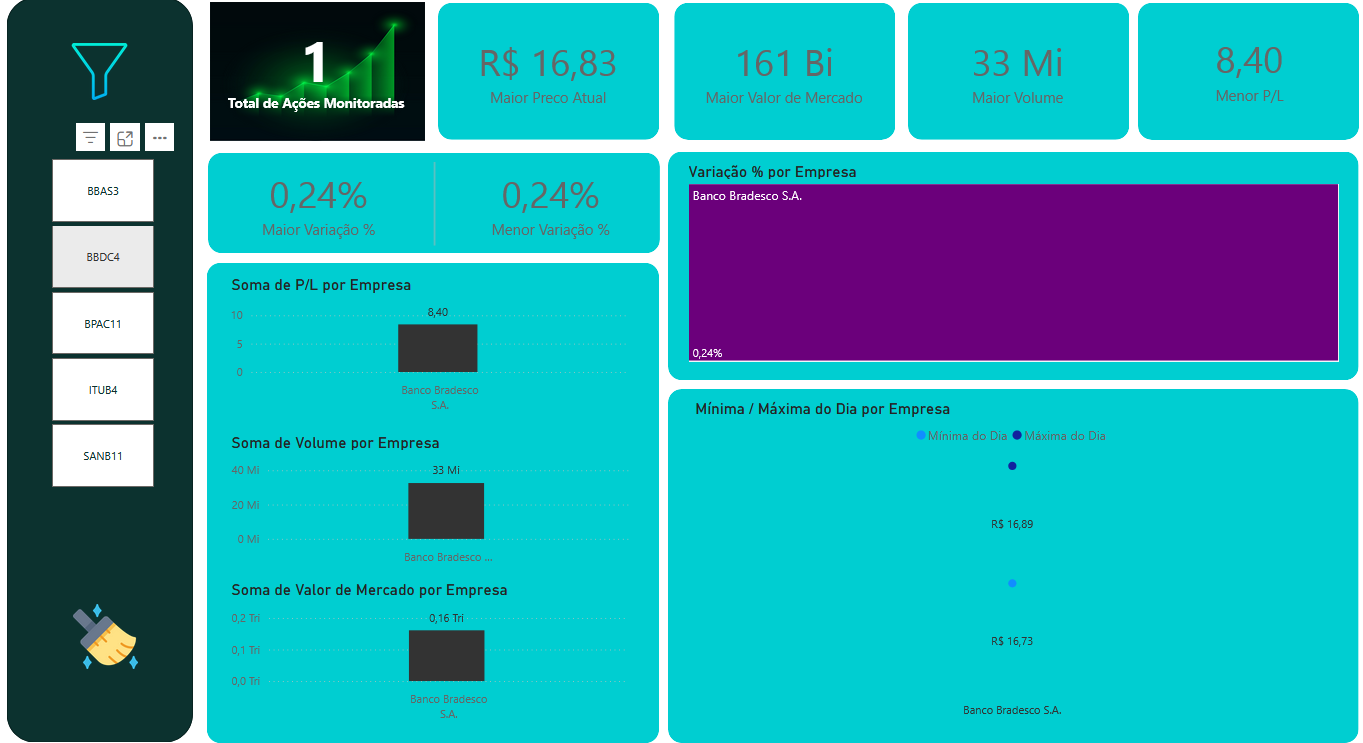

The page's visual inventory and layout, read from the dashboard file:
{"tool":"powerbi","page":{"name":"Ações","canvas":[1500,840],"ordinal":0},"visuals":[{"type":"shape","box":[998.6,20.1,240.1,148.8],"z":0},{"type":"shape","box":[744.2,20.3,240,148.8],"z":1000},{"type":"shape","box":[1248.4,20.3,240,148.8],"z":2000},{"type":"shape","box":[488.9,20.1,240.1,148.8],"z":3000},{"type":"shape","box":[238.6,182.7,490.5,109.2],"z":4000},{"type":"image","box":[236.3,15.4,243.2,161],"z":5000},{"type":"card","fields":{"Values":["Medidas.Maior Preco Atual"]},"box":[504.8,38.3,207.9,113.6],"z":6000},{"type":"card","fields":{"Values":["Medidas.Maior Volume"]},"box":[1020.7,38.3,195.9,113.6],"z":7000},{"type":"card","fields":{"Values":["Medidas.Maior Valor de Mercado"]},"box":[757.5,38.3,215.3,113.6],"z":8000},{"type":"card","fields":{"Values":["Medidas.Menor P/L"]},"box":[1265.9,38.3,207.9,109.2],"z":9000},{"type":"card","fields":{"Values":["Medidas.Maior Variação %"]},"box":[259.3,192,200.4,91.2],"z":10000},{"type":"card","fields":{"Values":["Medidas.Menor Variação %"]},"box":[515,192,191.4,91.2],"z":11000},{"type":"card","fields":{"Values":["Medidas.Total de Ações Monitoradas"]},"box":[250,37.7,214,106.2],"z":12000},{"type":"shape","box":[452.1,192,65.8,91.2],"z":13000},{"type":"shape","box":[236.8,302,491,521.6],"z":14000},{"type":"shape","box":[738,182.2,749.6,248.4],"z":15000},{"type":"shape","box":[738,439.4,749.6,384.3],"z":16000},{"type":"clusteredColumnChart","fields":{"Category":["dados_tratados.Empresa"],"Y":["Sum(dados_tratados.P/L)"]},"box":[258.8,316.6,441.3,156.3],"z":17000},{"type":"columnChart","fields":{"Category":["dados_tratados.Empresa"],"Y":["Sum(dados_tratados.Volume)"]},"box":[258.8,487.6,441.3,150.5],"z":18000},{"type":"columnChart","fields":{"Category":["dados_tratados.Empresa"],"Y":["Sum(dados_tratados.Valor de Mercado)"]},"box":[258.8,646.8,441.3,160.7],"z":19000},{"type":"treemap","title":"Variação % por Empresa","fields":{"Group":["dados_tratados.Empresa"],"Values":["Sum(dados_tratados.Variação %)"]},"box":[755.6,192.4,716,222.1],"z":20000},{"type":"stackedAreaChart","title":"Mínima / Máxima do Dia por Empresa","fields":{"Category":["dados_tratados.Empresa"],"Y":["Sum(dados_tratados.Mínima do Dia)","Sum(dados_tratados.Máxima do Dia)"]},"box":[762.9,451,699.9,356.5],"z":21000},{"type":"shape","box":[20.5,15.4,202.1,808.2],"z":22000},{"type":"slicer","fields":{"Values":["dados_tratados.Ticker"]},"box":[42.8,183.2,161,369.9],"z":23000},{"type":"image","box":[85.6,667.8,83.9,80.5],"z":24000},{"type":"image","box":[85.6,58.2,71.9,73.6],"z":25000}]}

Visuals, with their boxes in screenshot pixels (x1, y1, x2, y2), scaled from the page's 1500x840 canvas onto the 1363x743 screenshot:
shape: {"x1": 907, "y1": 18, "x2": 1126, "y2": 149}
shape: {"x1": 676, "y1": 18, "x2": 894, "y2": 150}
shape: {"x1": 1134, "y1": 18, "x2": 1352, "y2": 150}
shape: {"x1": 444, "y1": 18, "x2": 662, "y2": 149}
shape: {"x1": 217, "y1": 162, "x2": 663, "y2": 258}
image: {"x1": 215, "y1": 14, "x2": 436, "y2": 156}
card - Medidas.Maior Preco Atual: {"x1": 459, "y1": 34, "x2": 648, "y2": 134}
card - Medidas.Maior Volume: {"x1": 927, "y1": 34, "x2": 1105, "y2": 134}
card - Medidas.Maior Valor de Mercado: {"x1": 688, "y1": 34, "x2": 884, "y2": 134}
card - Medidas.Menor P/L: {"x1": 1150, "y1": 34, "x2": 1339, "y2": 130}
card - Medidas.Maior Variação %: {"x1": 236, "y1": 170, "x2": 418, "y2": 250}
card - Medidas.Menor Variação %: {"x1": 468, "y1": 170, "x2": 642, "y2": 250}
card - Medidas.Total de Ações Monitoradas: {"x1": 227, "y1": 33, "x2": 422, "y2": 127}
shape: {"x1": 411, "y1": 170, "x2": 471, "y2": 250}
shape: {"x1": 215, "y1": 267, "x2": 661, "y2": 728}
shape: {"x1": 671, "y1": 161, "x2": 1352, "y2": 381}
shape: {"x1": 671, "y1": 389, "x2": 1352, "y2": 729}
clusteredColumnChart - dados_tratados.Empresa x Sum(dados_tratados.P/L): {"x1": 235, "y1": 280, "x2": 636, "y2": 418}
columnChart - dados_tratados.Empresa x Sum(dados_tratados.Volume): {"x1": 235, "y1": 431, "x2": 636, "y2": 564}
columnChart - dados_tratados.Empresa x Sum(dados_tratados.Valor de Mercado): {"x1": 235, "y1": 572, "x2": 636, "y2": 714}
"Variação % por Empresa" treemap: {"x1": 687, "y1": 170, "x2": 1337, "y2": 367}
"Mínima / Máxima do Dia por Empresa" stackedAreaChart: {"x1": 693, "y1": 399, "x2": 1329, "y2": 714}
shape: {"x1": 19, "y1": 14, "x2": 202, "y2": 728}
slicer - dados_tratados.Ticker: {"x1": 39, "y1": 162, "x2": 185, "y2": 489}
image: {"x1": 78, "y1": 591, "x2": 154, "y2": 662}
image: {"x1": 78, "y1": 51, "x2": 143, "y2": 117}
